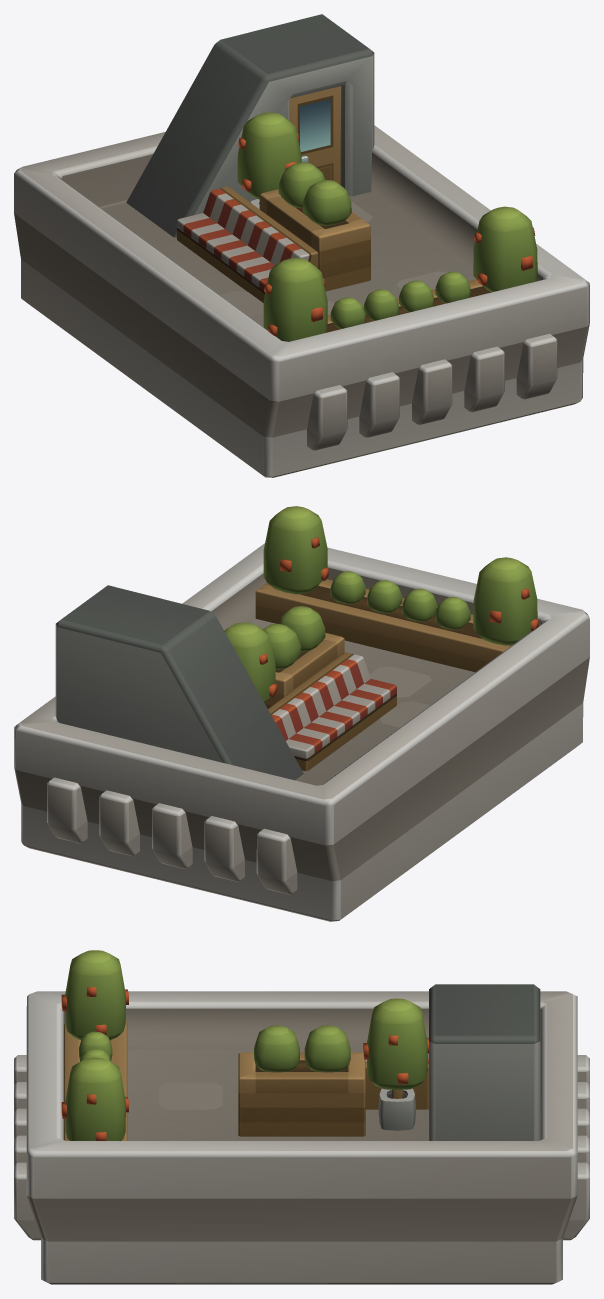
File: appartment_type1_roof_type2_x3_deco.fbx
3 views of the same model, one above another, from view 1: azimuth 30°, elevation 25°; view 2: azimuth 150°, elevation 25°; view 3: azimuth 270°, elevation 25° (orthographic). The views are drawn at different scales.
Visible parts, largest first — view 1: appartment_type1_roof_type2_x3_deco, door_wood_rooftop_doorway; view 2: appartment_type1_roof_type2_x3_deco; view 3: appartment_type1_roof_type2_x3_deco.
Boxes of the visible parts, x1,y1,x2,y2 form: appartment_type1_roof_type2_x3_deco: (14, 14, 589, 477); door_wood_rooftop_doorway: (290, 86, 341, 185); appartment_type1_roof_type2_x3_deco: (14, 506, 589, 921); appartment_type1_roof_type2_x3_deco: (14, 950, 589, 1284).
Size of the model in its own units: 610 by 410 by 907.
